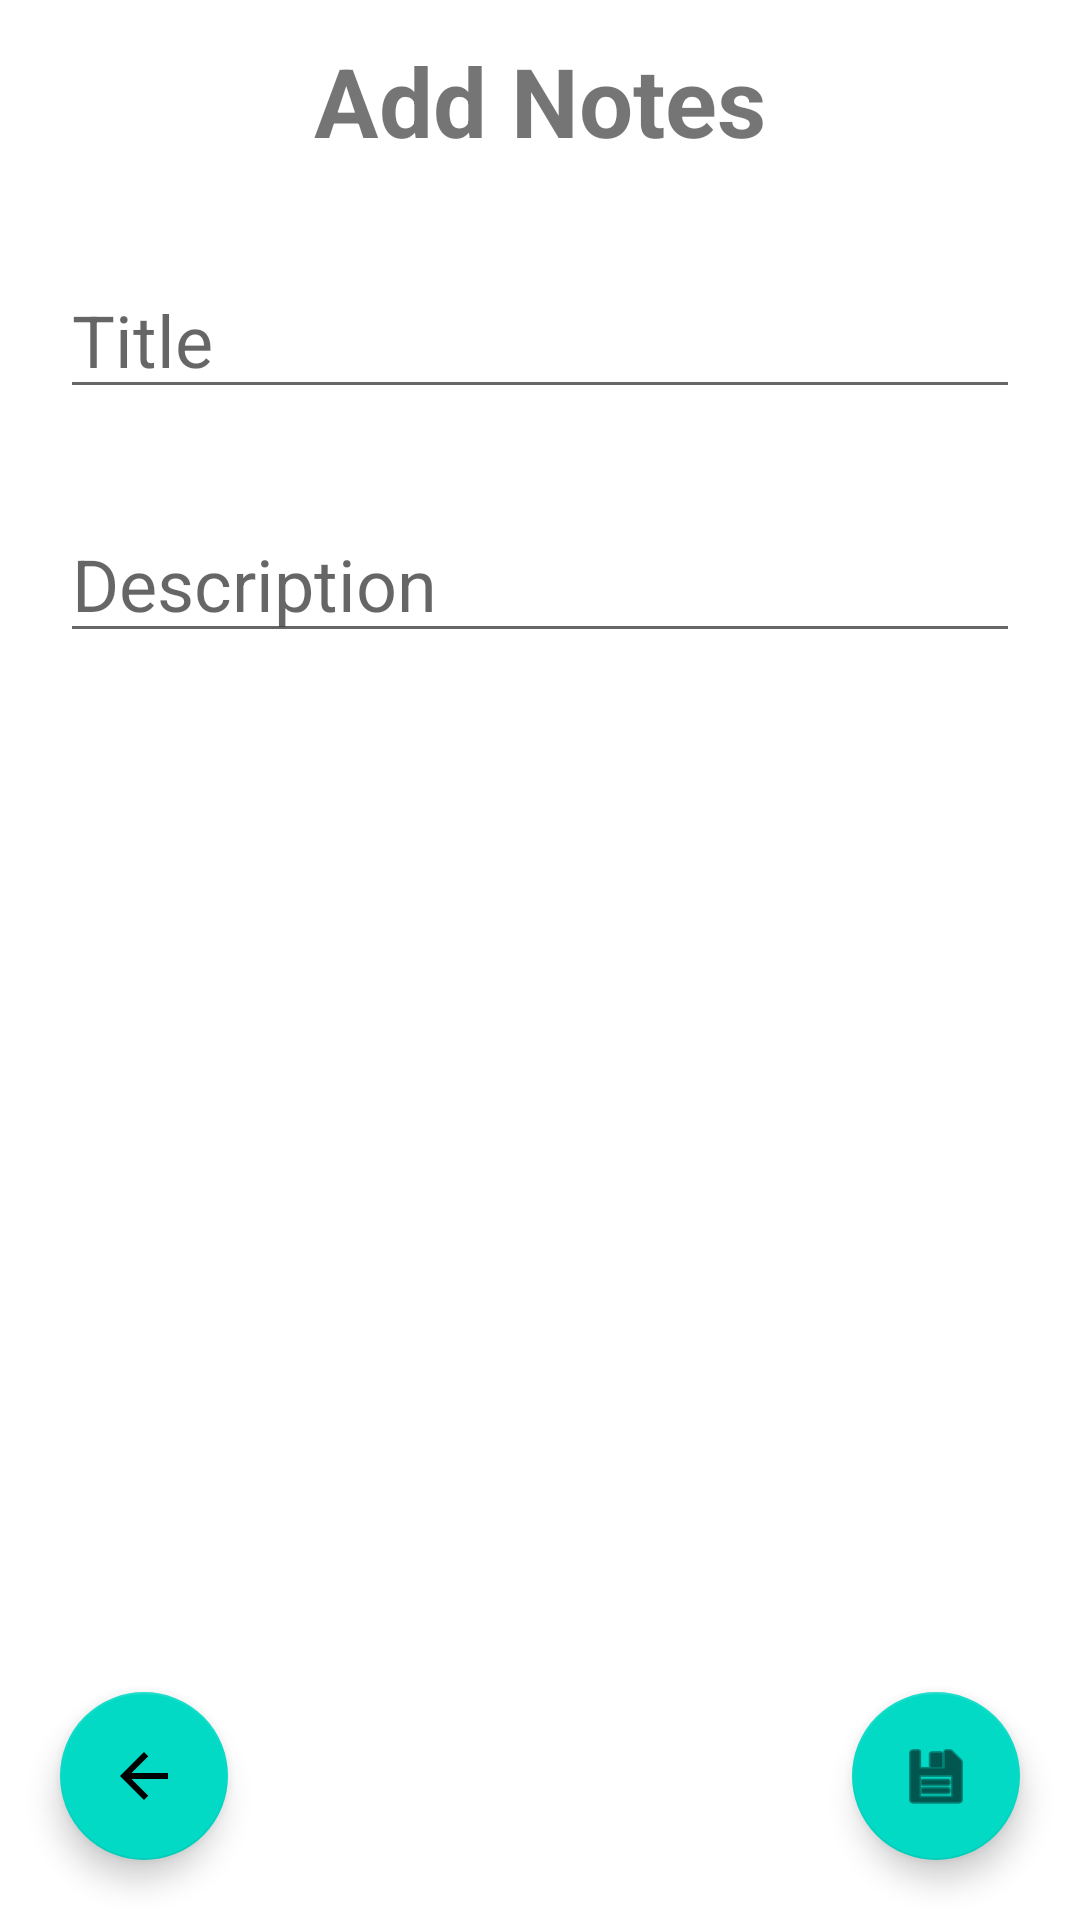

Point at icon controls on the screen. Image size 1080px×1920px, points as (x,y).
back: (144,1776)
save: (936,1776)
